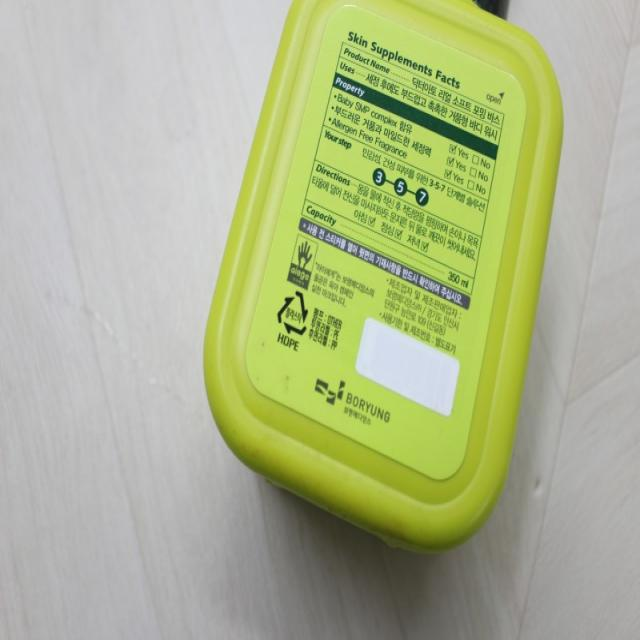Plastic: (276, 288, 310, 338)
